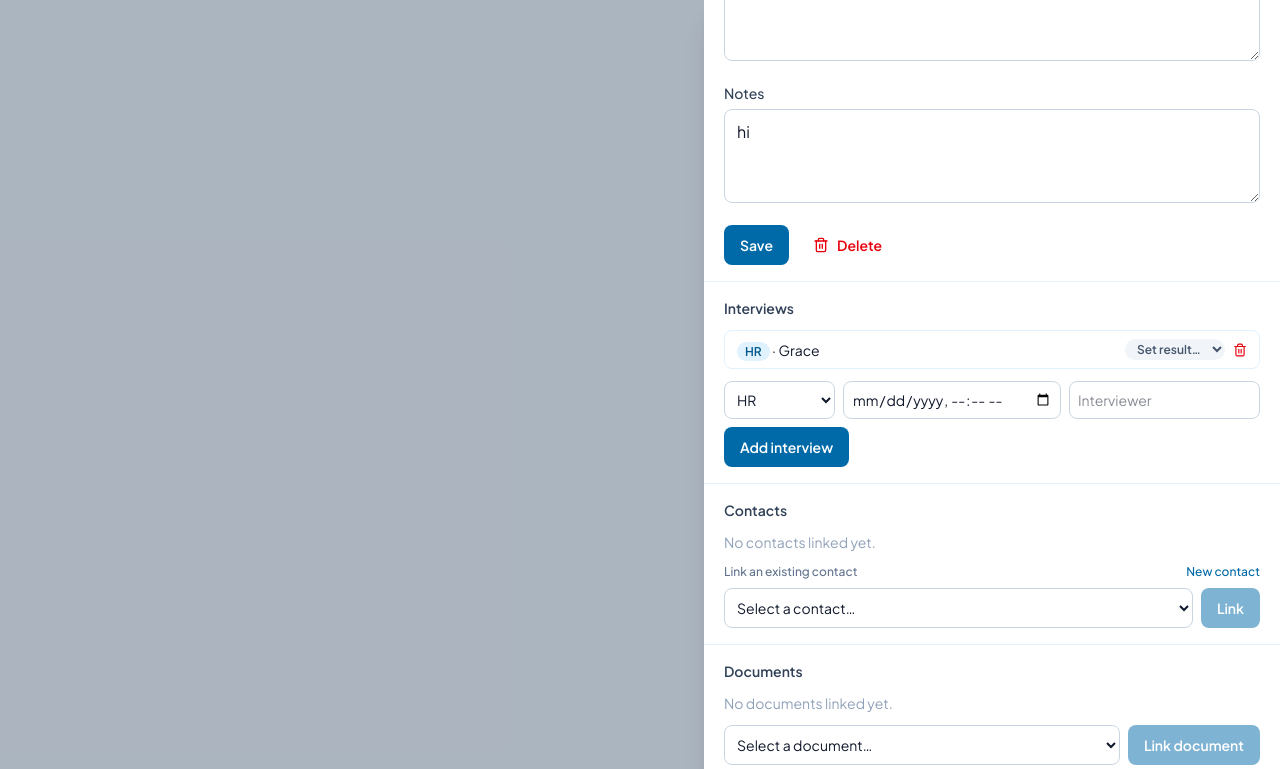
Scenario: lists and adds interviews for the application, including a scheduled date
(page scrolled)
Expected: the text "HR · Grace" is shown, [737,340,820,360]
Select "Technical" in the dropdown named "add interview type" at (780, 400), box [724,381,835,419]
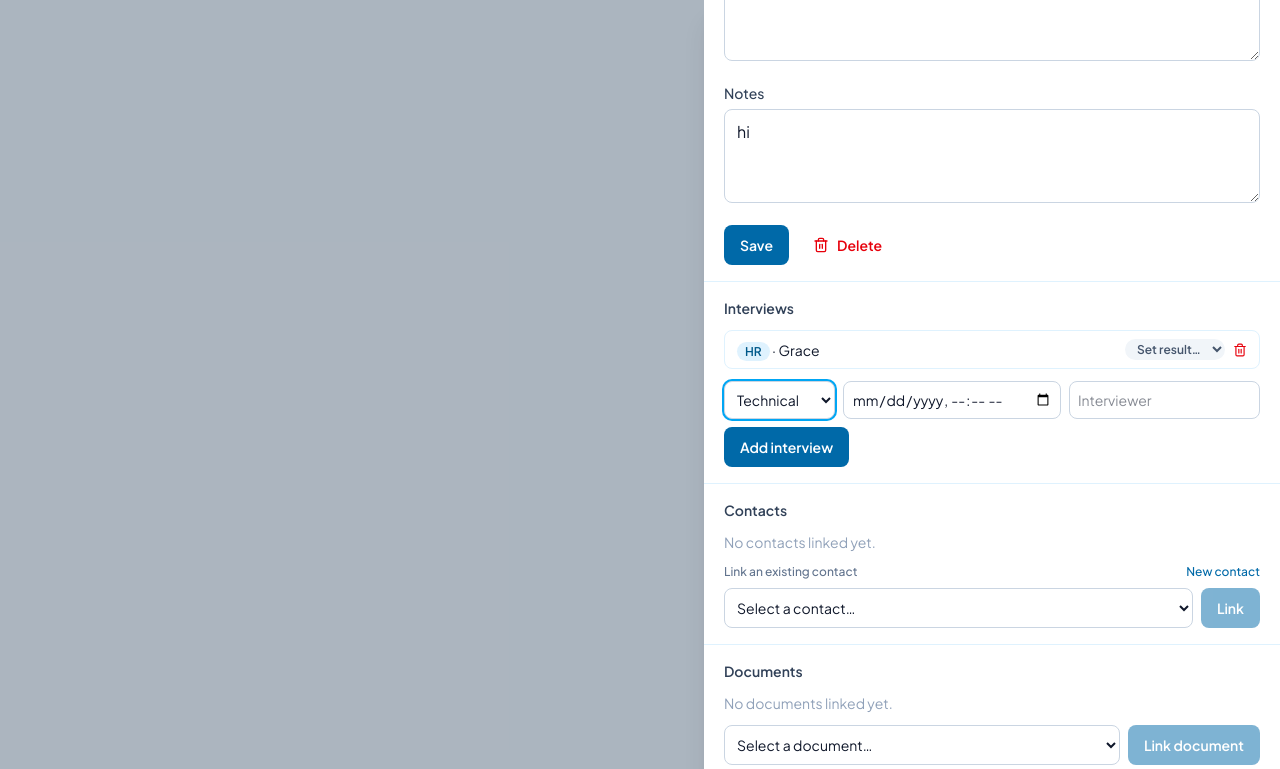
Type "2026-06-26T14:00" into the field named "add interview scheduled date" at (952, 400), box [843,381,1061,419]
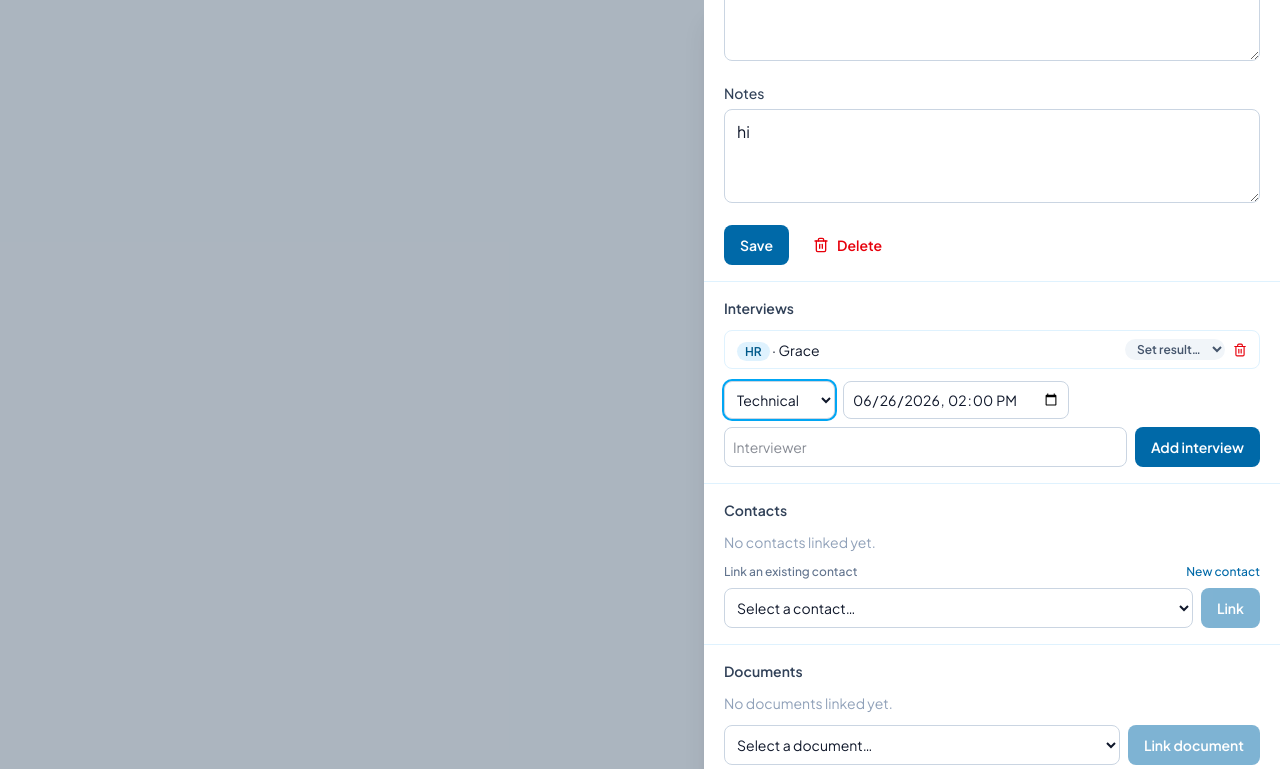
Click the button "Add interview" at (1197, 447), box [1135,427,1260,467]
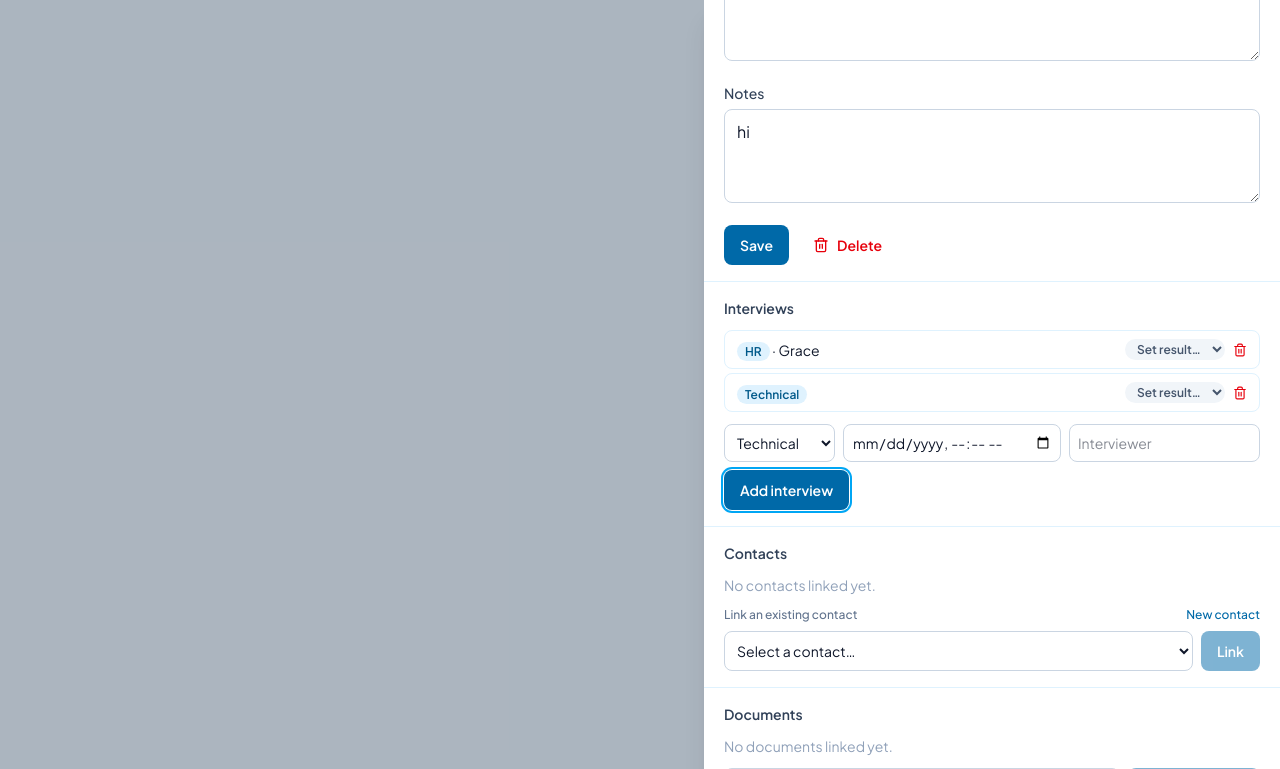
Expected: the text "Technical" is shown, [737,384,807,404]
